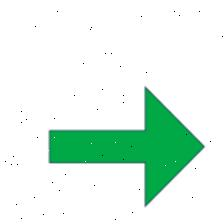right: (43, 82, 206, 216)
